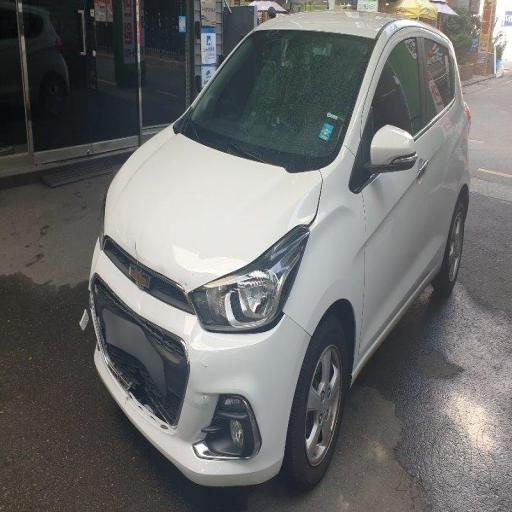scratch: (161, 225, 285, 338)
